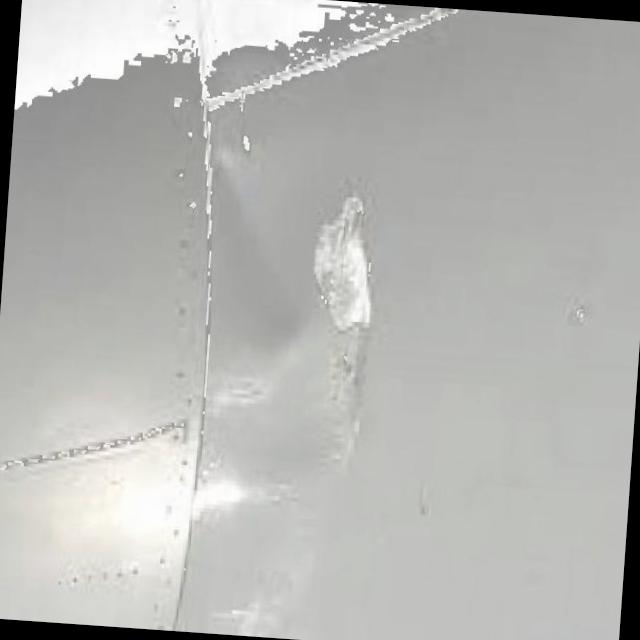dent: (289, 183, 389, 511), (204, 152, 316, 398), (193, 336, 344, 513)
